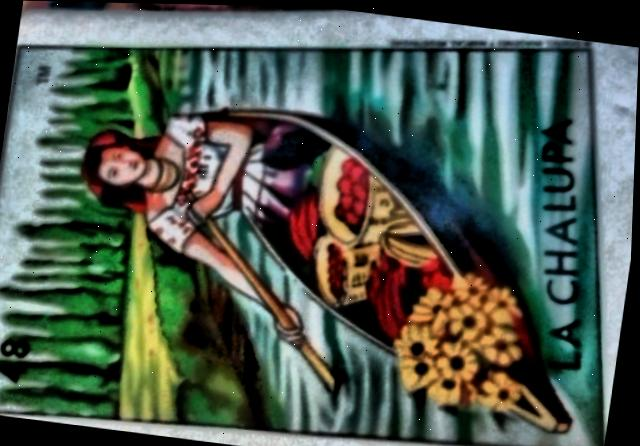La Chalupa: (0, 40, 600, 446)
